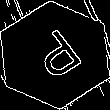P_SE: (22, 24, 88, 86)
